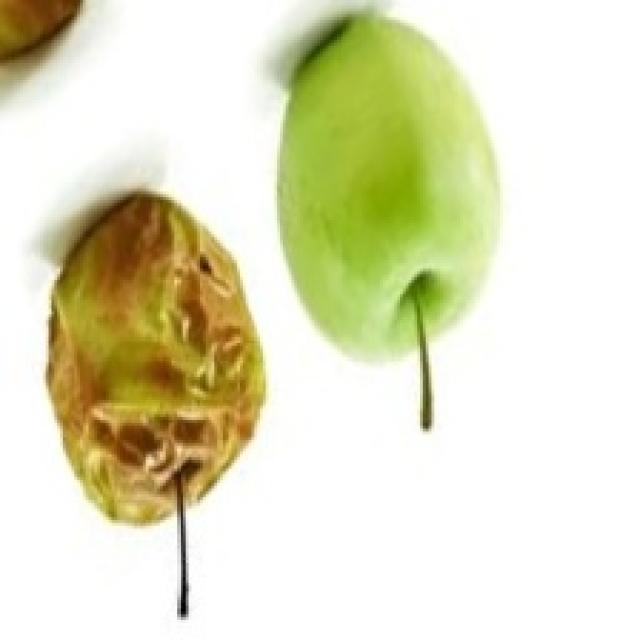50-_ripeness: (277, 14, 513, 372)
rotten_apple: (54, 198, 260, 522)
